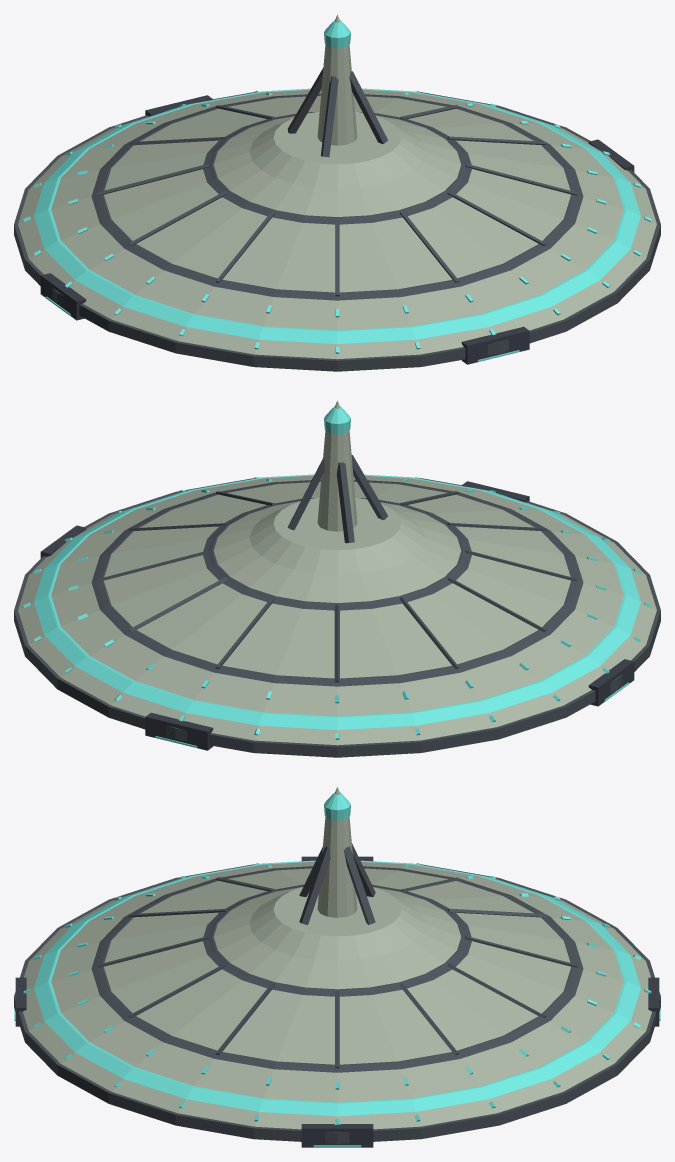
The model's file is SH_Mothership_01.glb.
3 renders of one model, top to bottom at view 1: azimuth 30°, elevation 25°; view 2: azimuth 150°, elevation 25°; view 3: azimuth 270°, elevation 25°, orthographic.
Parts seen in each view (by area): view 1: SH_Mothership_01; view 2: SH_Mothership_01; view 3: SH_Mothership_01.
Boxes of the visible parts, x1=… form: SH_Mothership_01: x1=14, y1=14, x2=660, y2=371; SH_Mothership_01: x1=14, y1=400, x2=660, y2=757; SH_Mothership_01: x1=14, y1=786, x2=660, y2=1147.
Size of the model in its own units: 81 by 34 by 81.
Materials: 1 (1 with a texture image).
